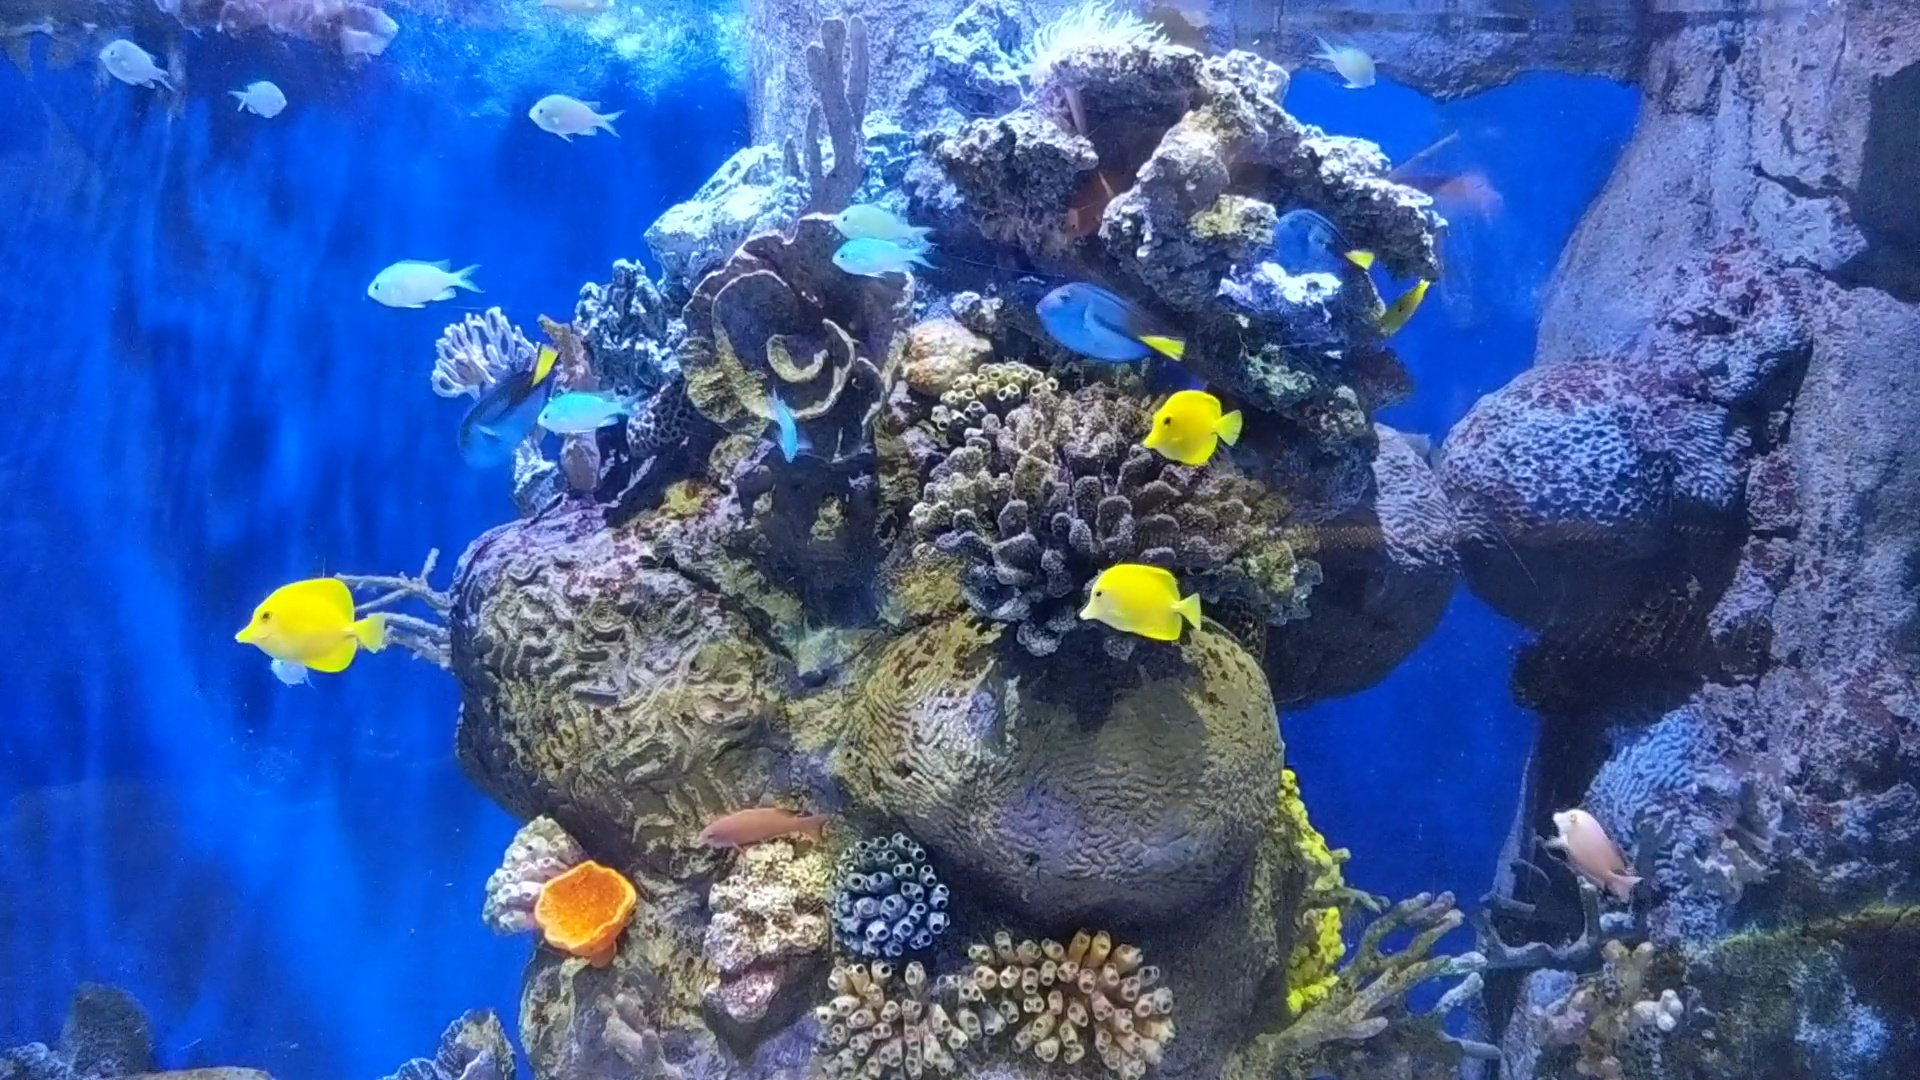blue tang surgeonfish: (446, 344, 576, 462), (1029, 272, 1191, 363), (1269, 203, 1374, 298)
damselfish: (349, 239, 495, 328), (524, 371, 644, 450), (512, 83, 632, 152), (1312, 26, 1385, 94), (825, 200, 927, 245), (220, 73, 298, 129), (99, 37, 171, 98), (833, 239, 939, 280), (757, 386, 814, 454)
pink fish: (1530, 804, 1665, 915)
saddle butterfly fish: (222, 584, 396, 678), (1048, 553, 1207, 654), (1131, 376, 1254, 477)
